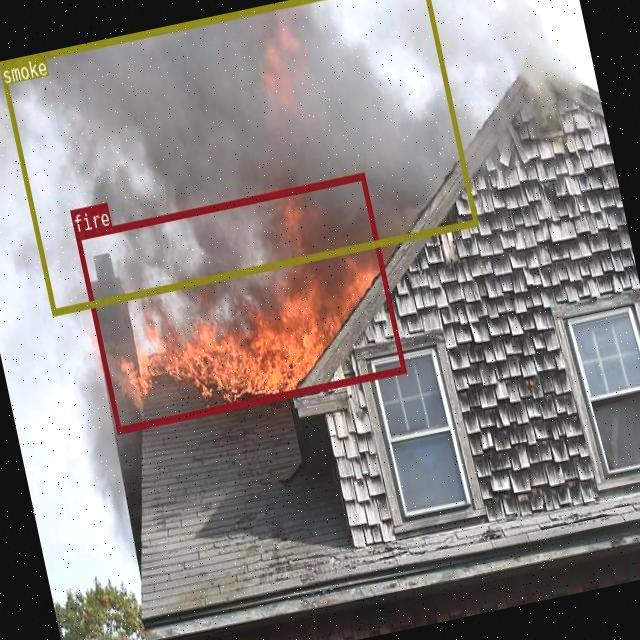fire: (73, 172, 406, 432)
smoke: (0, 0, 477, 314)
